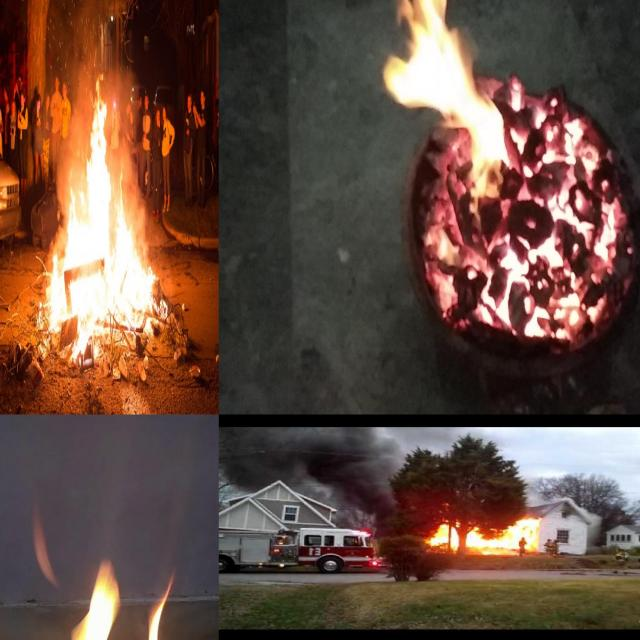fire: (362, 0, 540, 205), (0, 486, 174, 640), (42, 198, 150, 341), (434, 512, 542, 554), (90, 79, 126, 197)
smoke: (219, 430, 422, 504), (54, 0, 134, 96), (54, 68, 90, 196), (126, 98, 152, 197)
